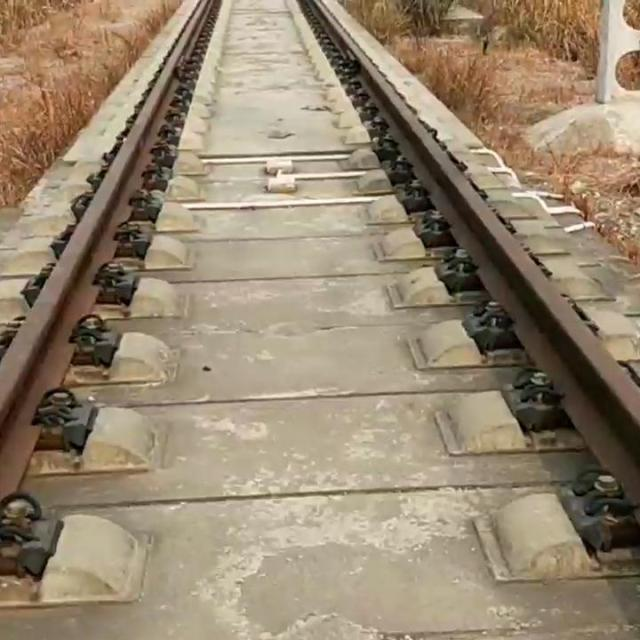rail: (311, 0, 640, 507), (1, 0, 217, 497)
